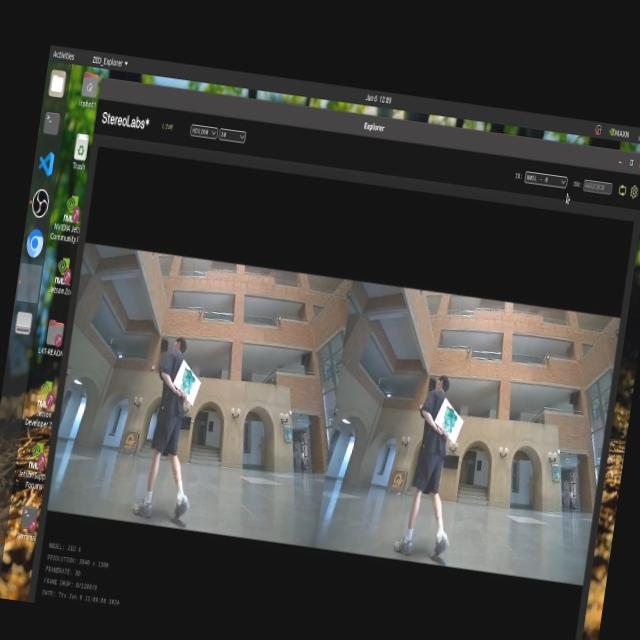green: (166, 360, 208, 404), (440, 404, 465, 438)
